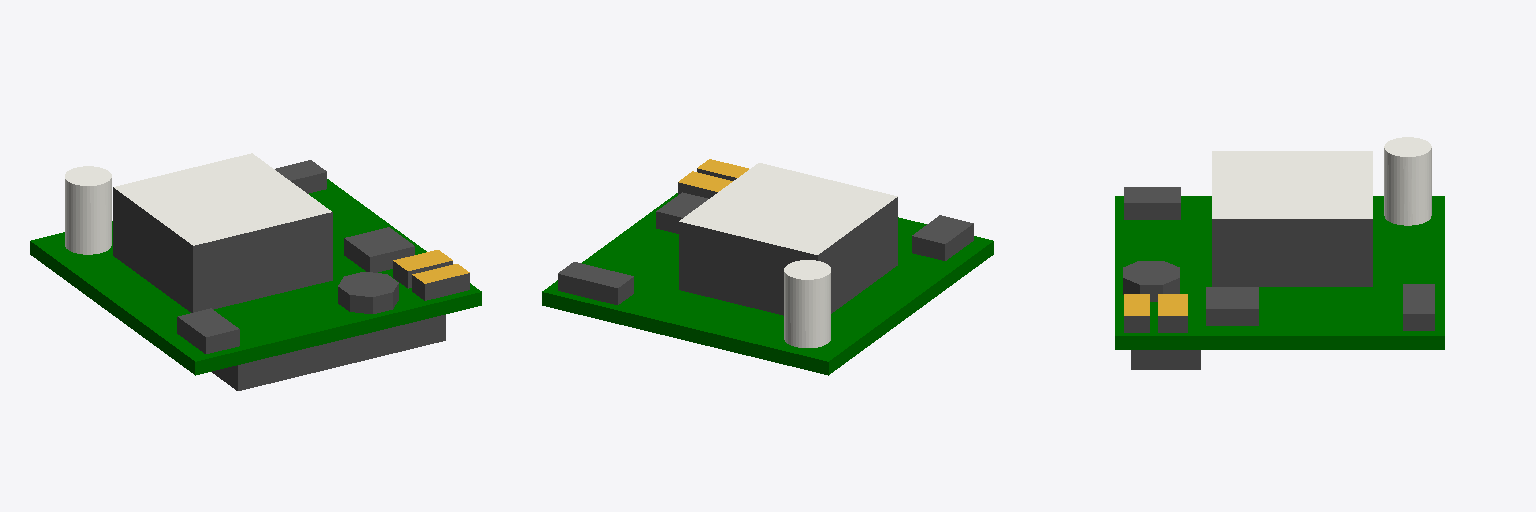
File: POE.obj
3 views of the same model, side by side, from view 1: azimuth 30°, elevation 25°; view 2: azimuth 150°, elevation 25°; view 3: azimuth 270°, elevation 25° (orthographic).
Visible parts, largest first — view 1: Solid1, Solid1-3, Solid1-2, Solid1-1; view 2: Solid1-3, Solid1, Solid1-2, Solid1-1; view 3: Solid1-3, Solid1, Solid1-2, Solid1-1.
Boxes of the visible parts, box(x1,y1,x2,y2) form: Solid1: box(113, 160, 469, 390); Solid1-3: box(30, 179, 481, 375); Solid1-2: box(65, 153, 331, 254); Solid1-1: box(393, 250, 469, 283); Solid1-3: box(542, 193, 993, 375); Solid1: box(558, 168, 973, 315); Solid1-2: box(679, 163, 897, 347); Solid1-1: box(679, 159, 748, 191); Solid1-3: box(1115, 196, 1444, 349); Solid1: box(1123, 187, 1434, 369); Solid1-2: box(1212, 137, 1431, 225); Solid1-1: box(1124, 294, 1187, 315).
Bounding box in the file's own units: 3.5 × 1.36 × 3.5.